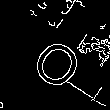O_NE: (23, 22, 87, 88)
